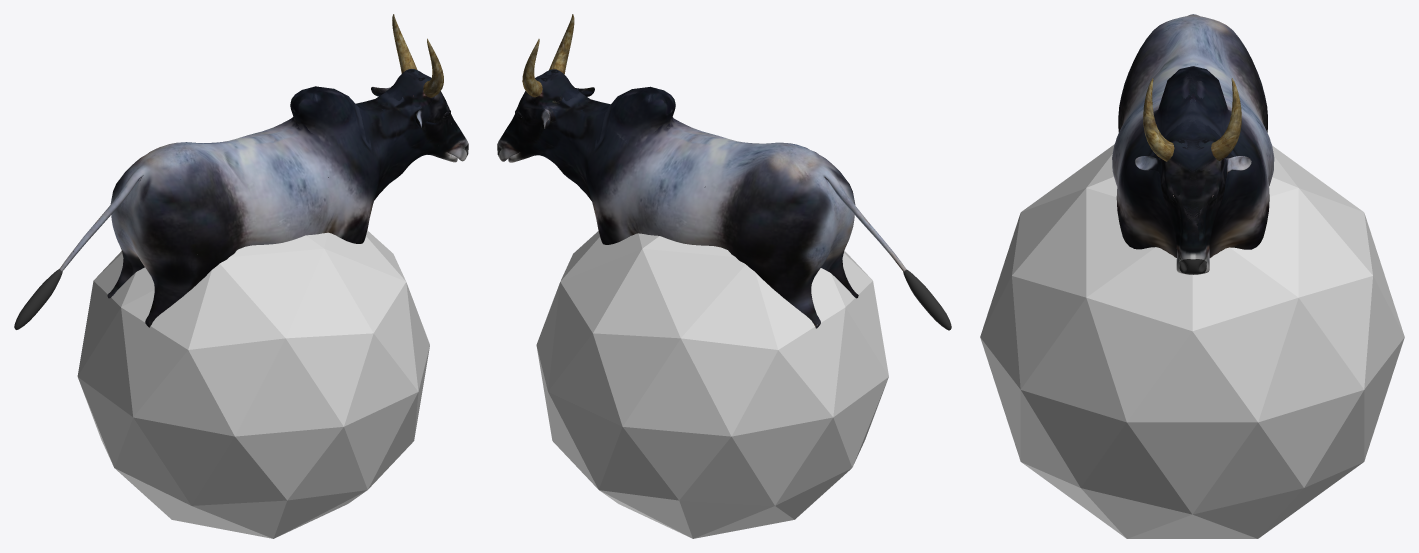
File: Yak.fbx
3 views of the same model, side by side, from view 1: azimuth 30°, elevation 25°; view 2: azimuth 150°, elevation 25°; view 3: azimuth 270°, elevation 25° (orthographic). The views are drawn at different scales.
Visible parts, largest first — view 1: Icosphere, Object_60, Object_57, Object_58; view 2: Icosphere, Object_60, Object_57, Object_58; view 3: Icosphere, Object_60, Object_57.
Boxes of the visible parts, <box> form: Icosphere: <box>77,230,429,538</box>; Object_60: <box>59,69,467,327</box>; Object_57: <box>392,14,443,97</box>; Object_58: <box>14,269,62,329</box>; Icosphere: <box>536,231,888,538</box>; Object_60: <box>498,69,906,328</box>; Object_57: <box>522,14,574,97</box>; Object_58: <box>903,269,951,330</box>; Icosphere: <box>980,144,1404,538</box>; Object_60: <box>1112,14,1274,274</box>; Object_57: <box>1143,78,1241,161</box>.
Size of the model in its own units: 290 by 281 by 200.
Materials: 6 (3 with a texture image).
